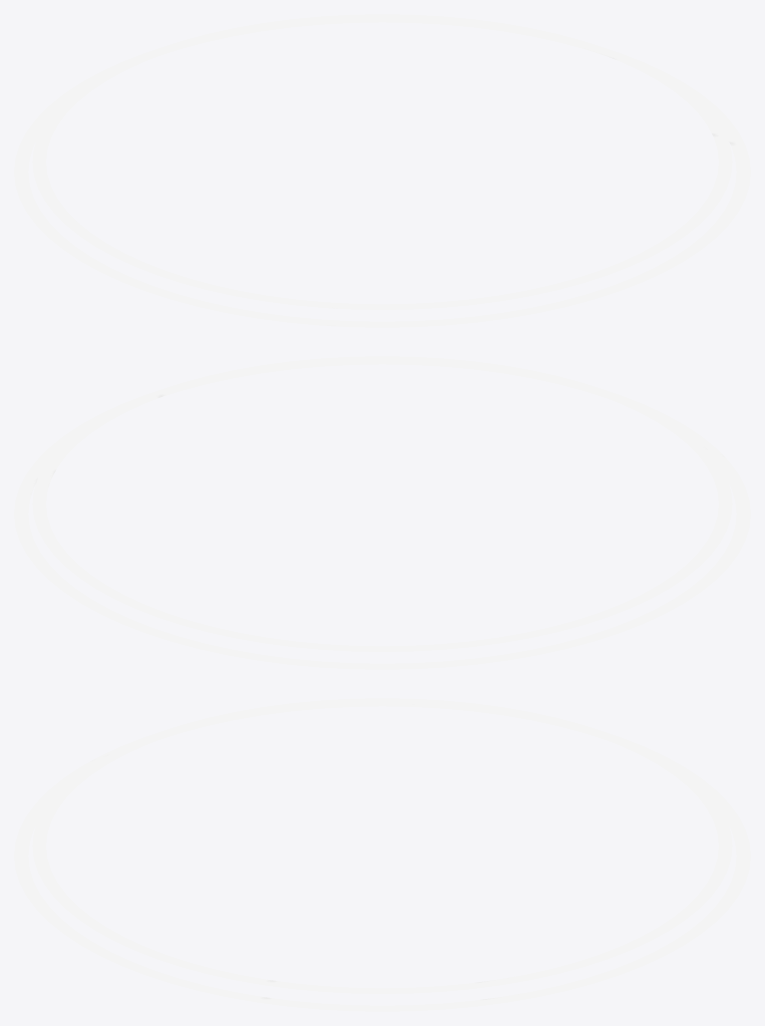
The model's file is circle_effect.glb.
3 views of the same model, one above another, from view 1: azimuth 30°, elevation 25°; view 2: azimuth 150°, elevation 25°; view 3: azimuth 270°, elevation 25° (orthographic).
Visible parts, largest first — view 1: circle_effect01_3, circle_effect02_4; view 2: circle_effect01_3, circle_effect02_4; view 3: circle_effect01_3, circle_effect02_4.
Part boxes in pixels (x1,y1,x2,y2): circle_effect01_3: (32,14,732,309); circle_effect02_4: (14,20,750,327); circle_effect01_3: (32,356,732,651); circle_effect02_4: (14,362,750,669); circle_effect01_3: (32,698,732,993); circle_effect02_4: (14,704,750,1011).
Bounding box in the file's own units: 2 × 0.0298 × 2.
Materials: 1 (1 with a texture image).
